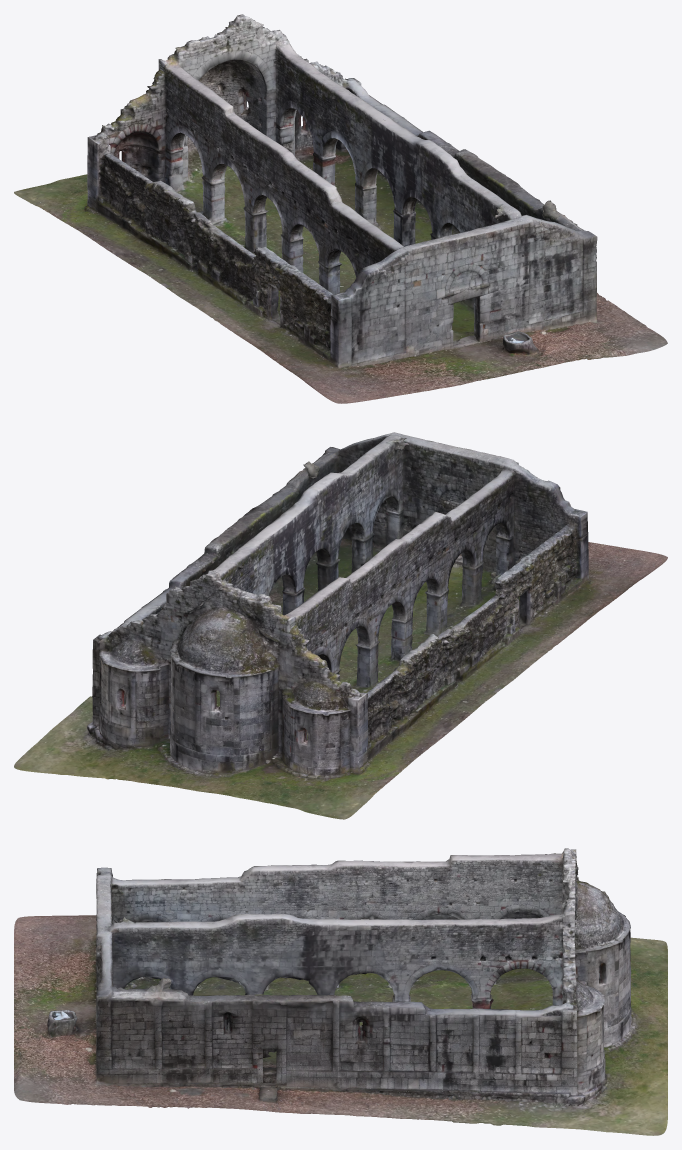
File: church-ruin.glb
3 views of the same model, one above another, from view 1: azimuth 30°, elevation 25°; view 2: azimuth 150°, elevation 25°; view 3: azimuth 270°, elevation 25° (orthographic).
Visible parts, largest first — view 1: Object_5, Object_4, Object_2, Object_3; view 2: Object_2, Object_4, Object_3, Object_5; view 3: Object_2, Object_3, Object_5, Object_4.
Boxes of the visible parts, x1,y1,x2,y2 form: Object_5: (14, 44, 587, 403); Object_4: (19, 32, 402, 364); Object_2: (24, 14, 667, 359); Object_3: (95, 56, 512, 339); Object_2: (105, 437, 397, 815); Object_4: (175, 476, 612, 818); Object_3: (14, 437, 462, 778); Object_5: (87, 432, 667, 819); Object_2: (14, 848, 667, 1116); Object_3: (117, 865, 667, 1135); Object_5: (14, 867, 666, 1108); Object_4: (121, 853, 667, 1022).
Size of the model in its own units: 21.85 by 12.27 by 36.59.
4 materials, 4 textured.
